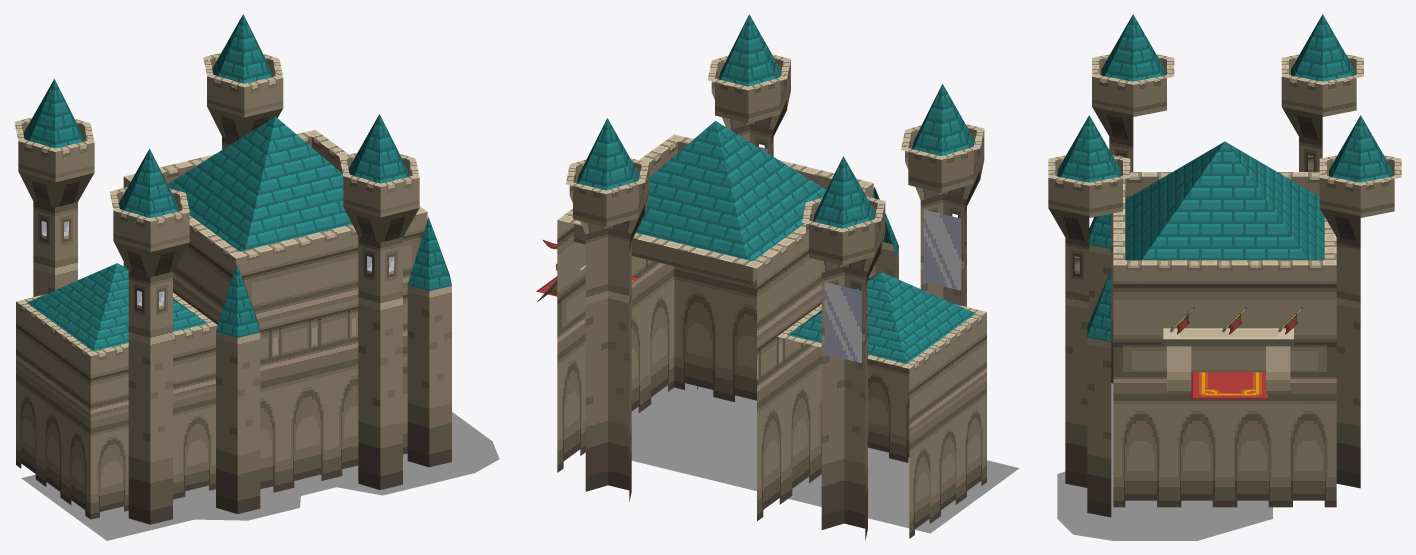
The model's file is Battle_Castle_obj.glb.
The picture shows the model from 3 angles, left to right: view 1: azimuth 30°, elevation 25°; view 2: azimuth 150°, elevation 25°; view 3: azimuth 270°, elevation 25°; orthographic projection. The views are drawn at different scales.
Visible parts, largest first — view 1: Battle_Castle_obj; view 2: Battle_Castle_obj; view 3: Battle_Castle_obj.
Boxes of the visible parts, x1,y1,x2,y2 form: Battle_Castle_obj: (14,14,499,540); Battle_Castle_obj: (536,14,1018,540); Battle_Castle_obj: (1048,14,1401,540).
Bounding box in the file's own units: 241 × 216 × 189.
Materials: 9 (9 with a texture image).
